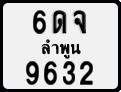letters: (23, 60, 40, 86), (78, 60, 95, 86), (72, 9, 88, 34), (42, 61, 58, 86), (32, 9, 47, 35), (52, 10, 67, 34), (62, 61, 76, 85)
province: (40, 38, 82, 60)
